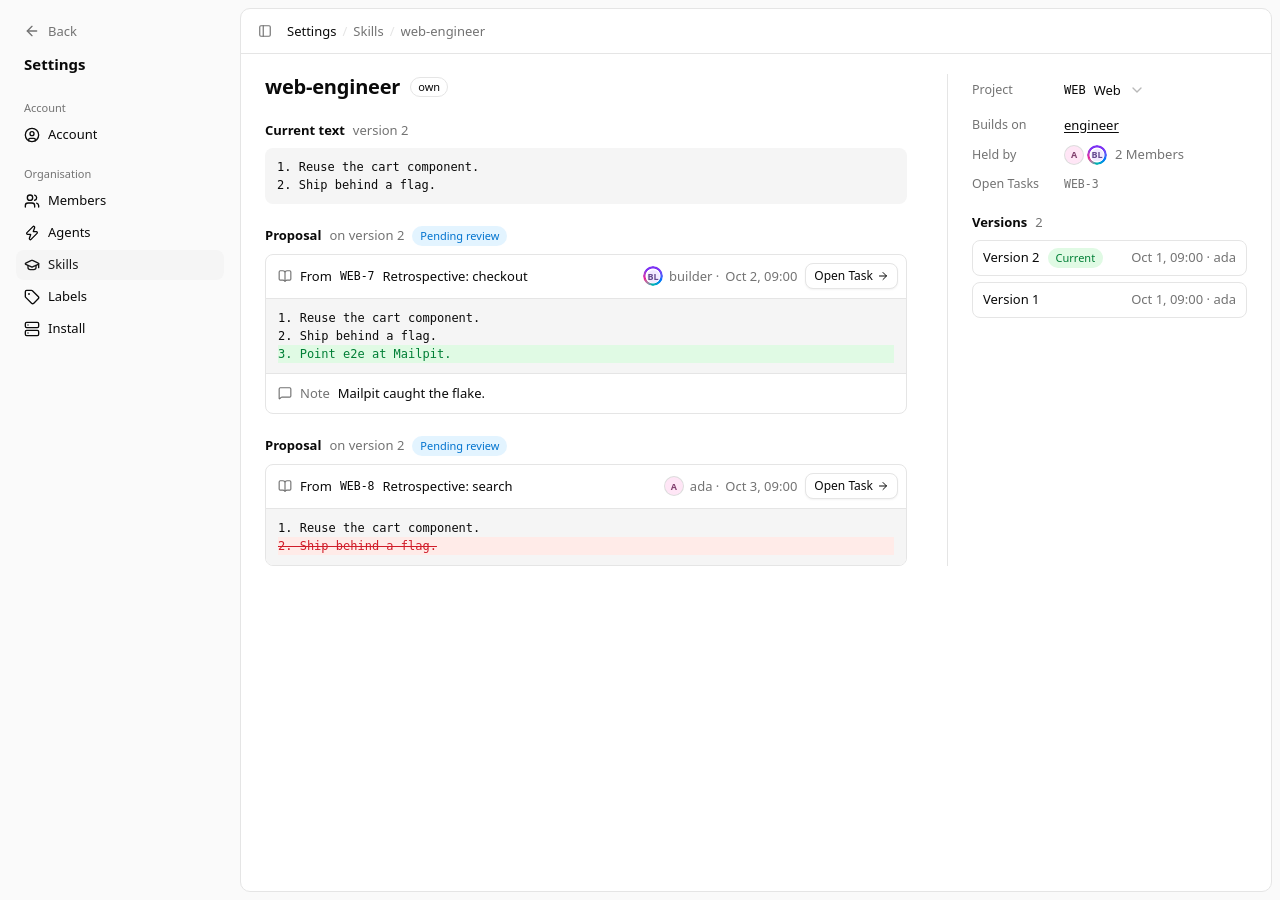
Scenario: Settings › Skills › a refusal to move an own Skill says why under its Project
Click the dropdown named "Project" at (1104, 90), box [1058, 74, 1151, 106]
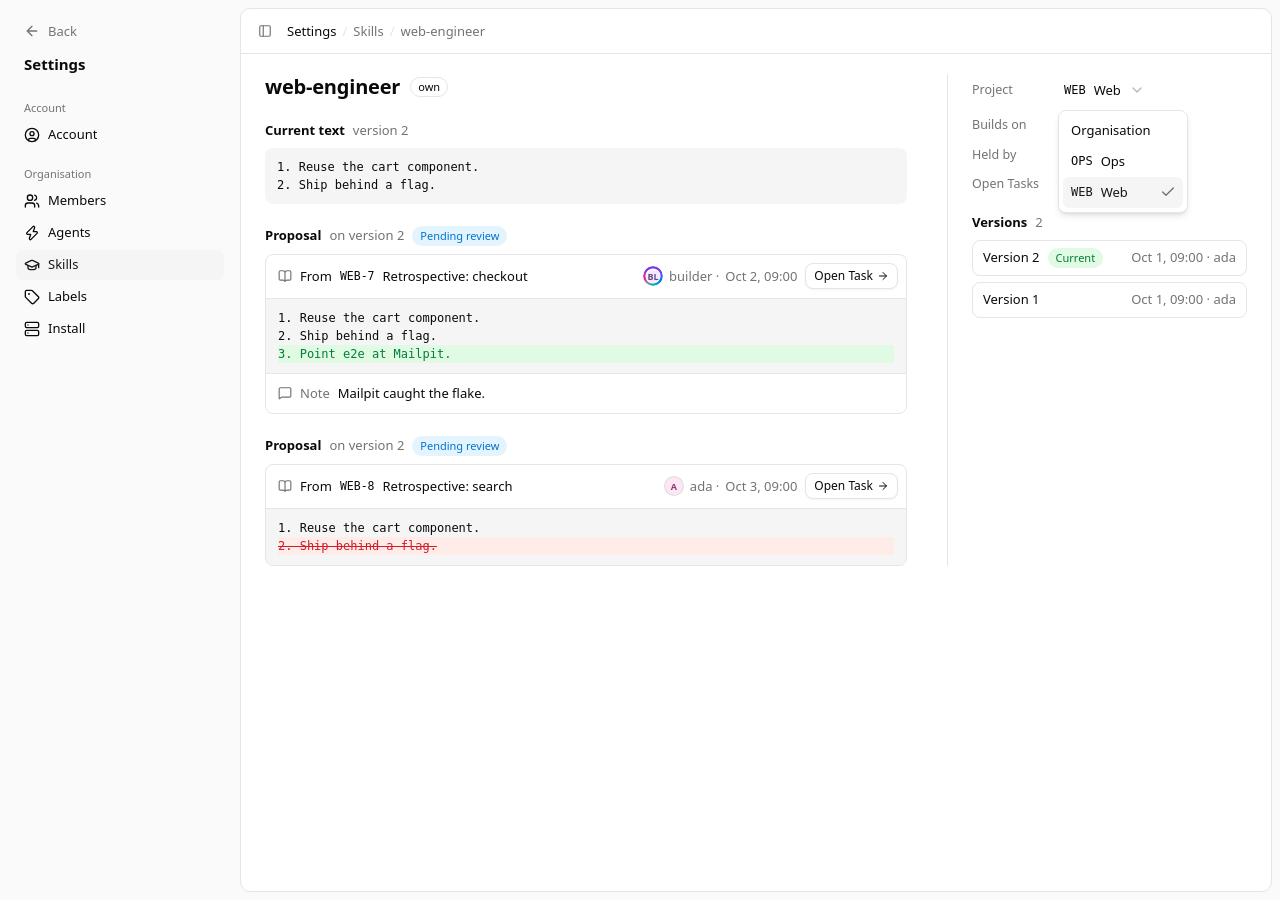
Click the option "Organisation" at (1111, 130), box [1071, 121, 1150, 139]
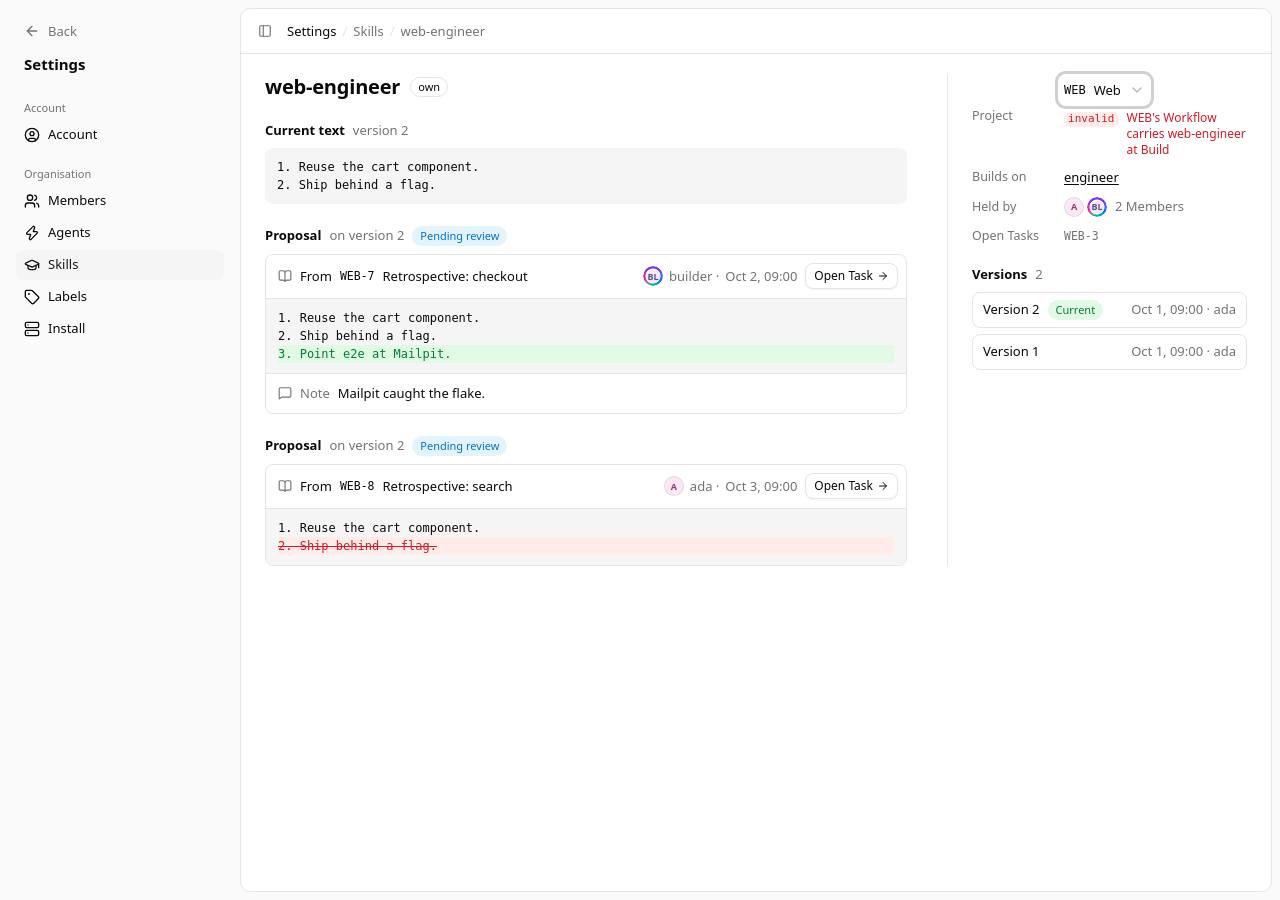
Result: the text "WEB's Workflow carries web-engineer at Build" is shown at [1126, 110, 1247, 158]
